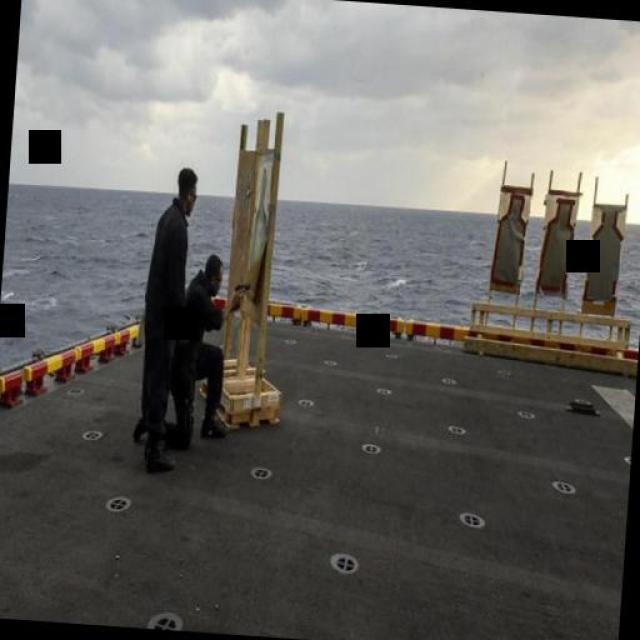gun: (228, 274, 252, 311)
